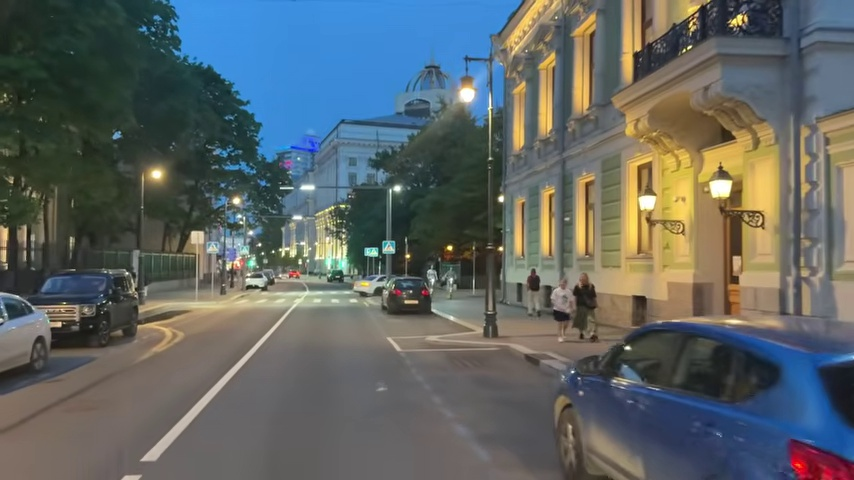acesa: (146, 165, 167, 185), (389, 182, 404, 197), (229, 194, 243, 208)
